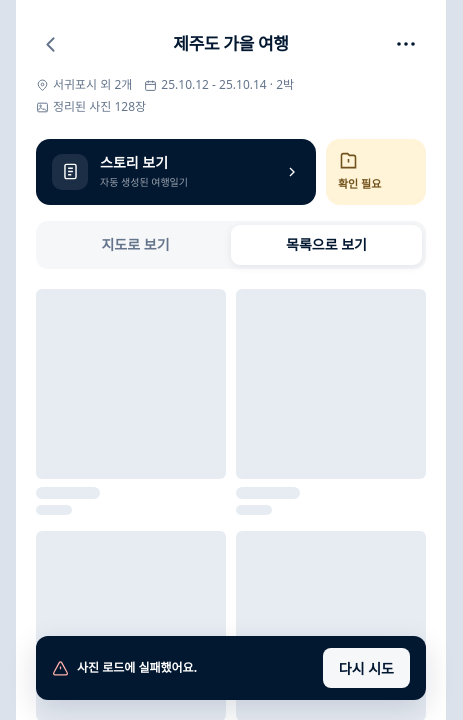
Scenario: TripDetailPage › 장소 폴더 조회에 실패하면 다시 시도로 재요청한다
Expected: the message shows "사진 로드에 실패했어요.", [77,659,197,676]
Click the button "다시 시도" at [366, 668], box [323,648,410,688]
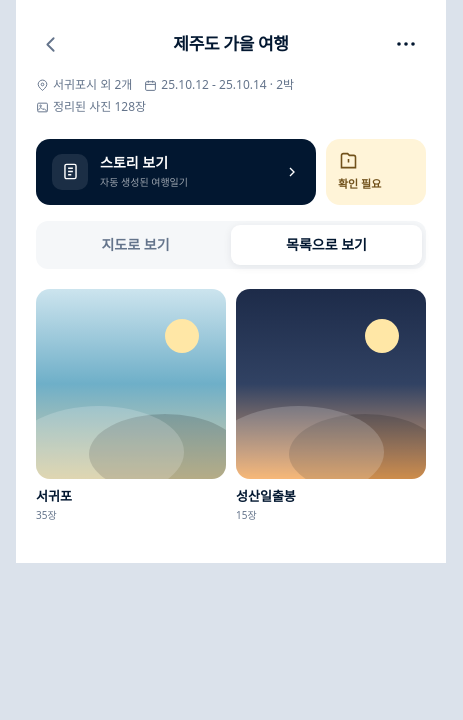
Expected: the link "서귀포 35장" is shown, [36,288,226,523]
